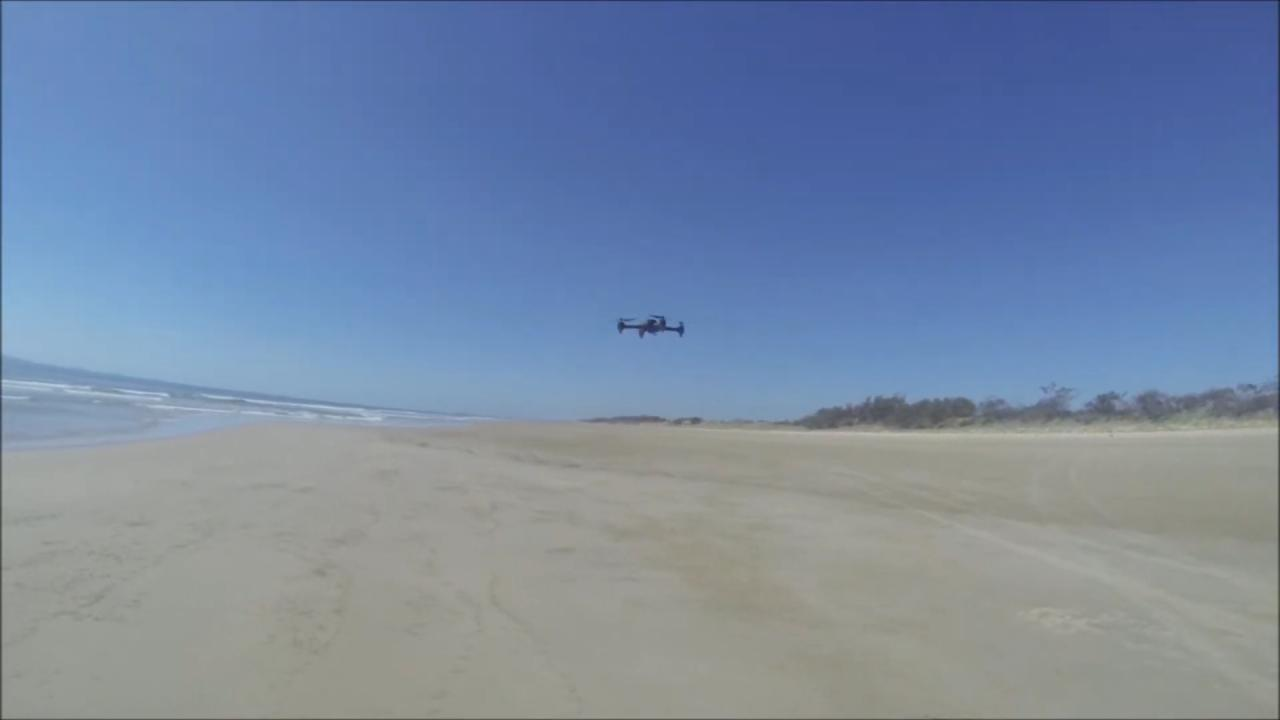Drone: (606, 306, 692, 346)
